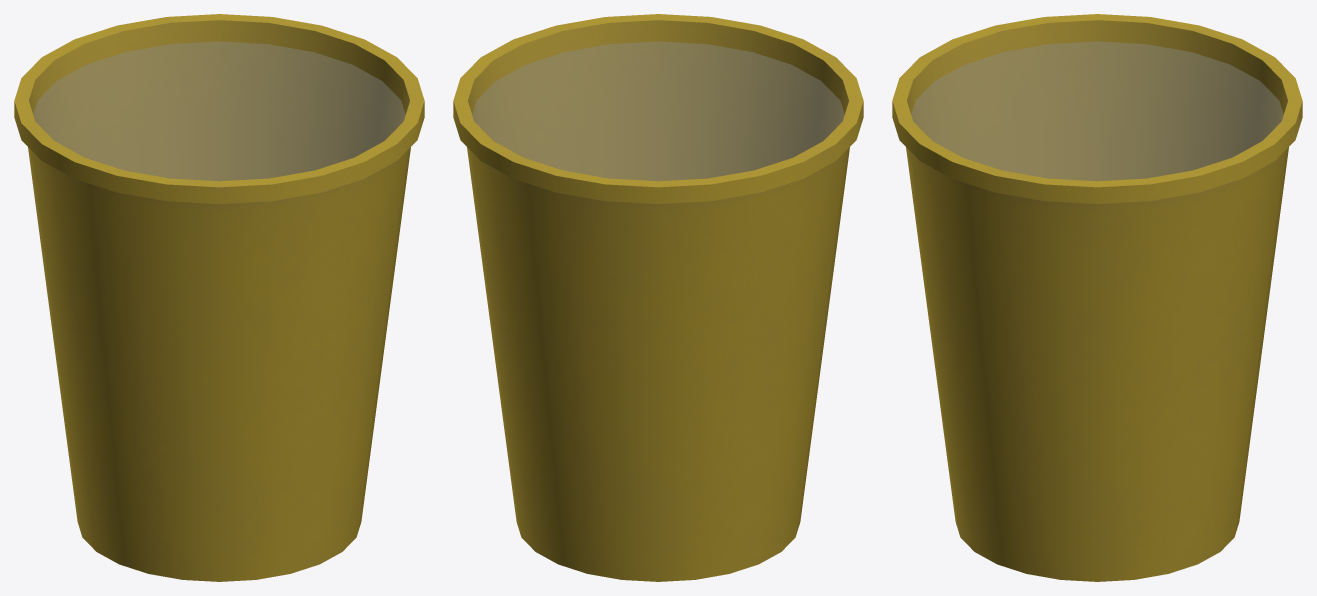
The picture shows the model from 3 angles, left to right: view 1: azimuth 30°, elevation 25°; view 2: azimuth 150°, elevation 25°; view 3: azimuth 270°, elevation 25°; orthographic projection.
Visible parts, largest first — view 1: 306_ShuiTong, 306_ShuiTong_Shui; view 2: 306_ShuiTong, 306_ShuiTong_Shui; view 3: 306_ShuiTong, 306_ShuiTong_Shui.
Boxes of the visible parts, x1,y1,x2,y2 form: 306_ShuiTong: [14, 14, 424, 581]; 306_ShuiTong_Shui: [33, 41, 405, 180]; 306_ShuiTong: [453, 14, 863, 581]; 306_ShuiTong_Shui: [472, 41, 844, 180]; 306_ShuiTong: [892, 14, 1302, 581]; 306_ShuiTong_Shui: [911, 41, 1283, 180].
Bounding box in the file's own units: 18.17 × 20.59 × 18.17.
2 materials, 1 textured.
